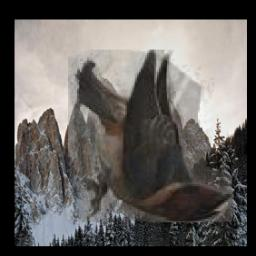Swallow: (69, 50, 233, 223)
